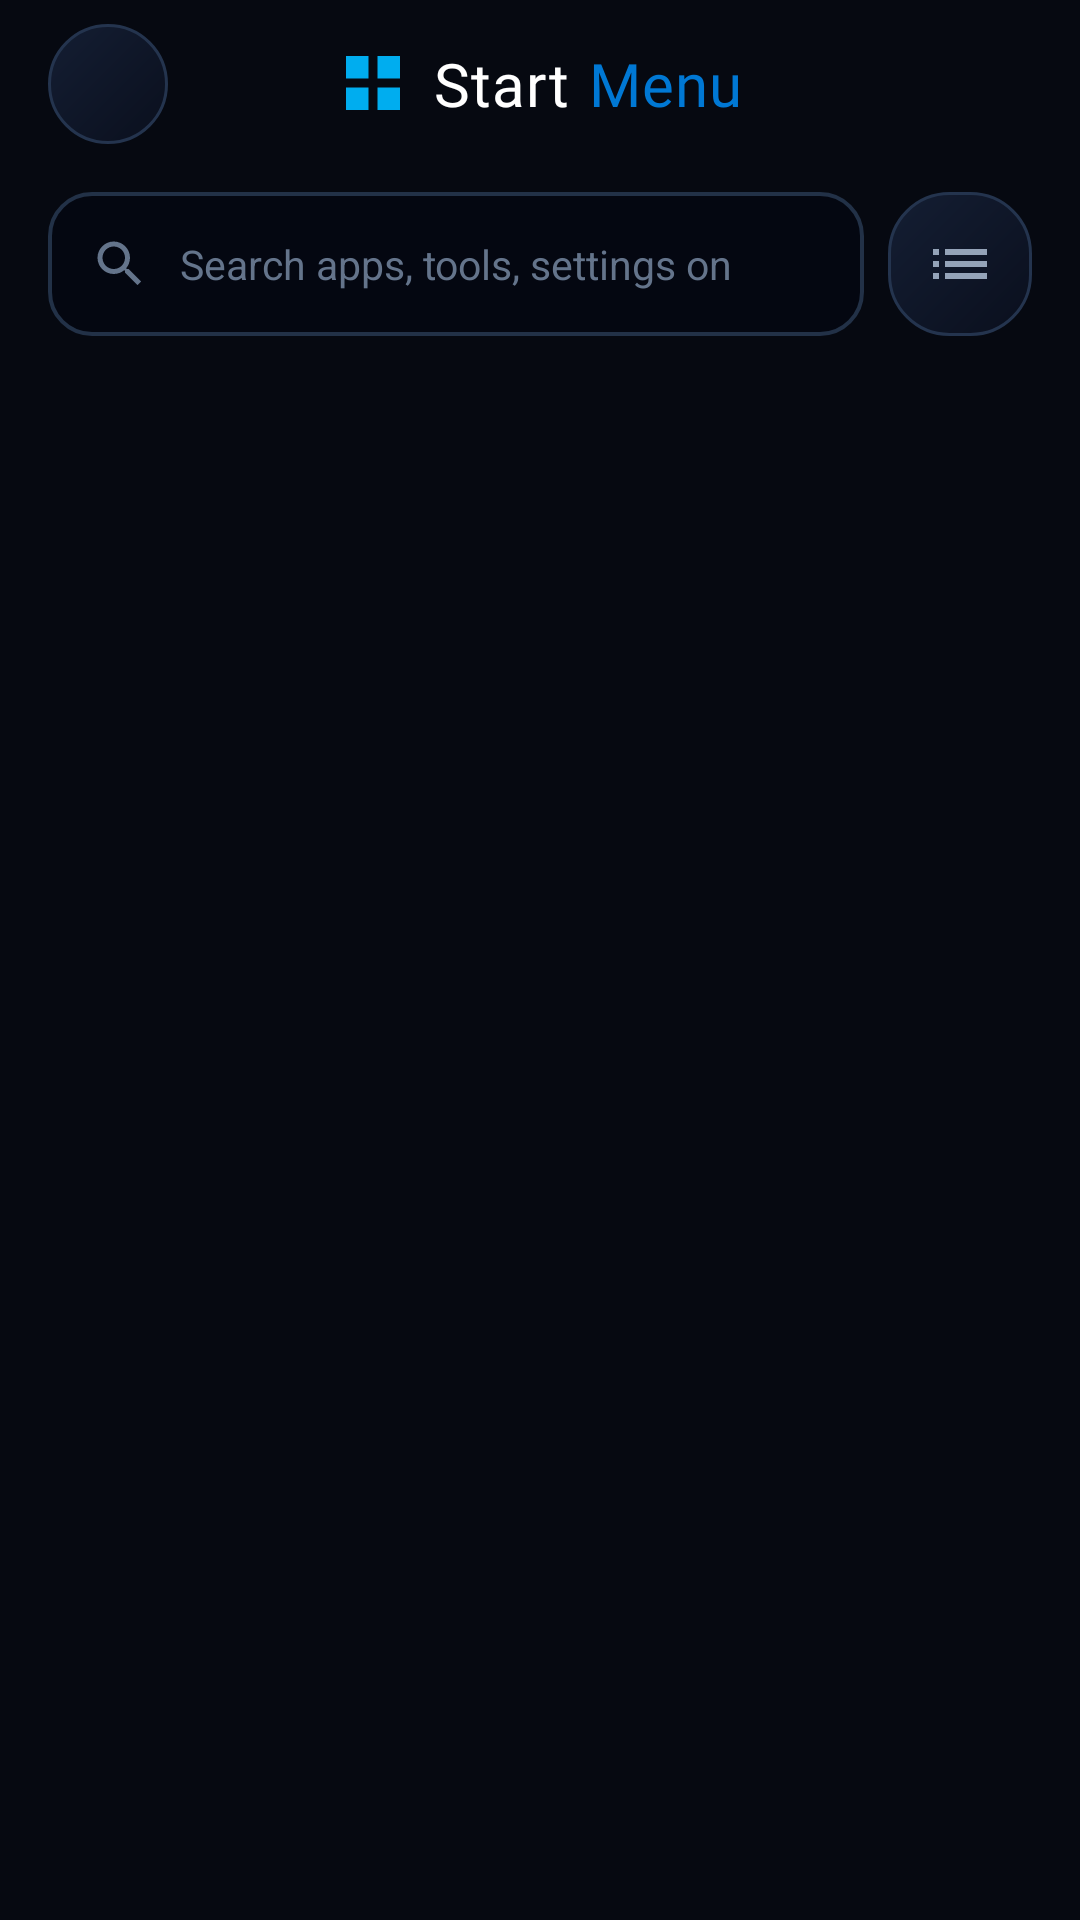

Icon click points for this 1080px x 1920px phone screenshot, format [x,y]:
Toggle Grid or List View: [960,264]
